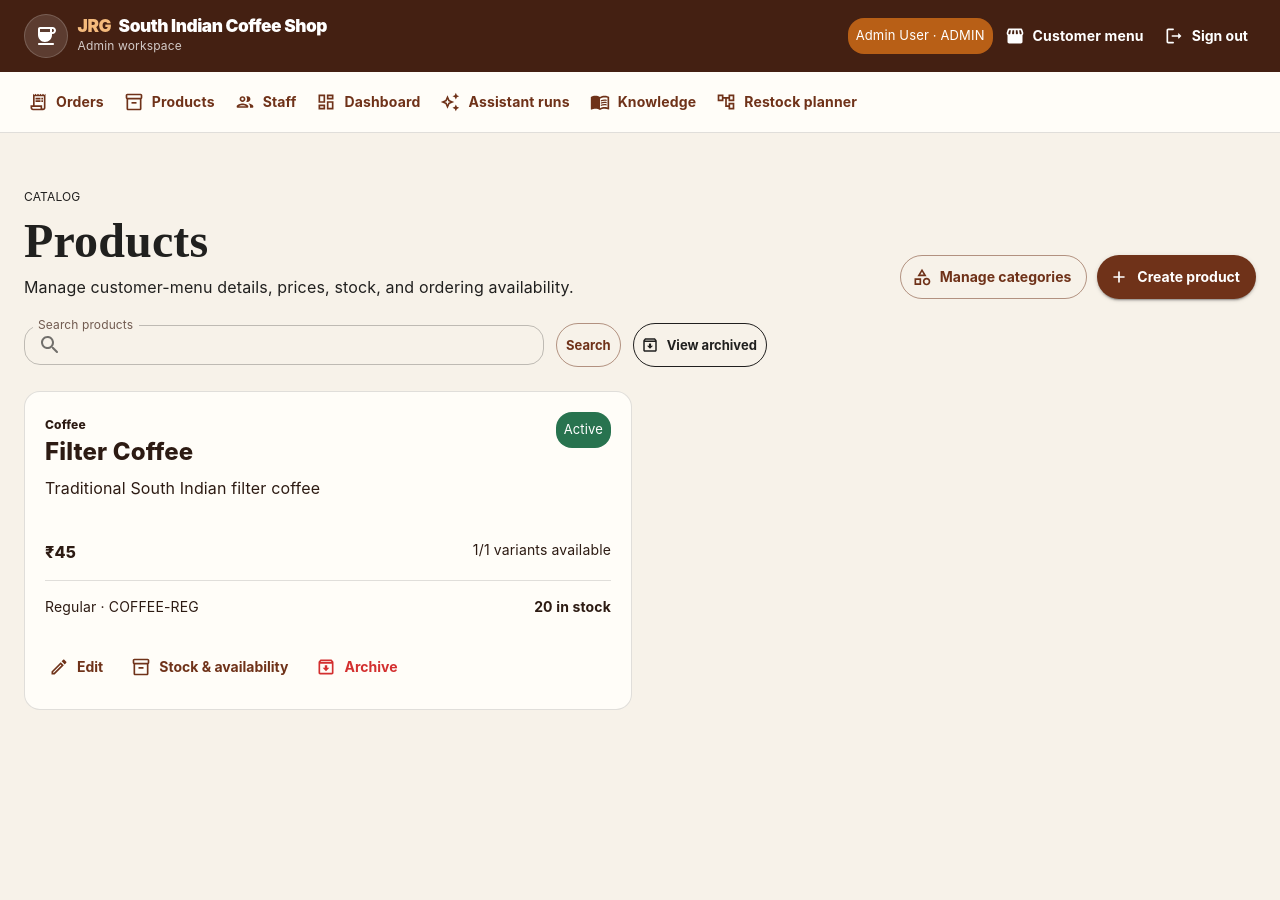
Test case: admin product management › returns to sign in when an admin mutation finds an expired session
The width and height of the screenshot is (1280, 900).
Click the button "Archive" at (359, 667), box [312,645,406,689]
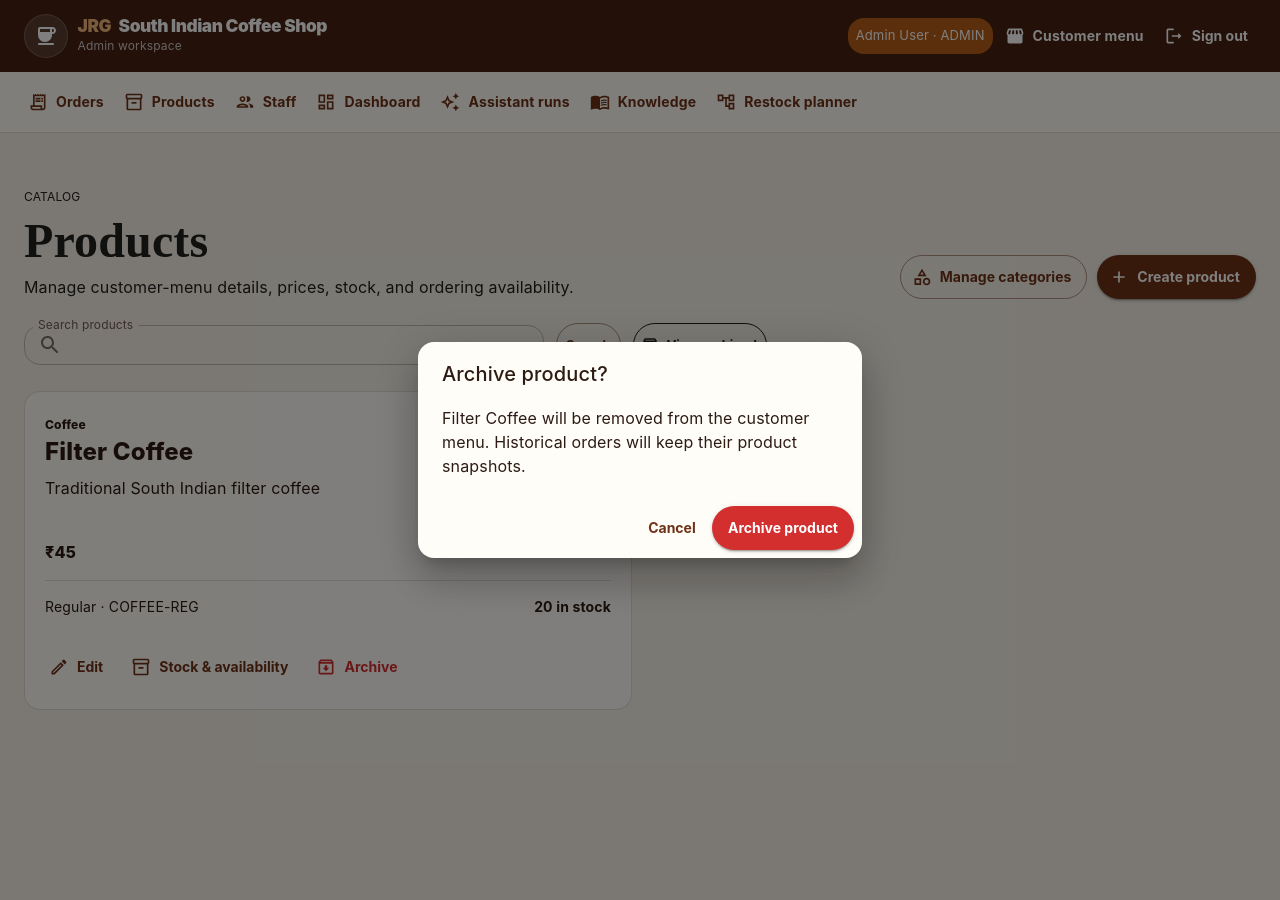
Click the button "Archive product" at (783, 528), box [712,506,854,550]
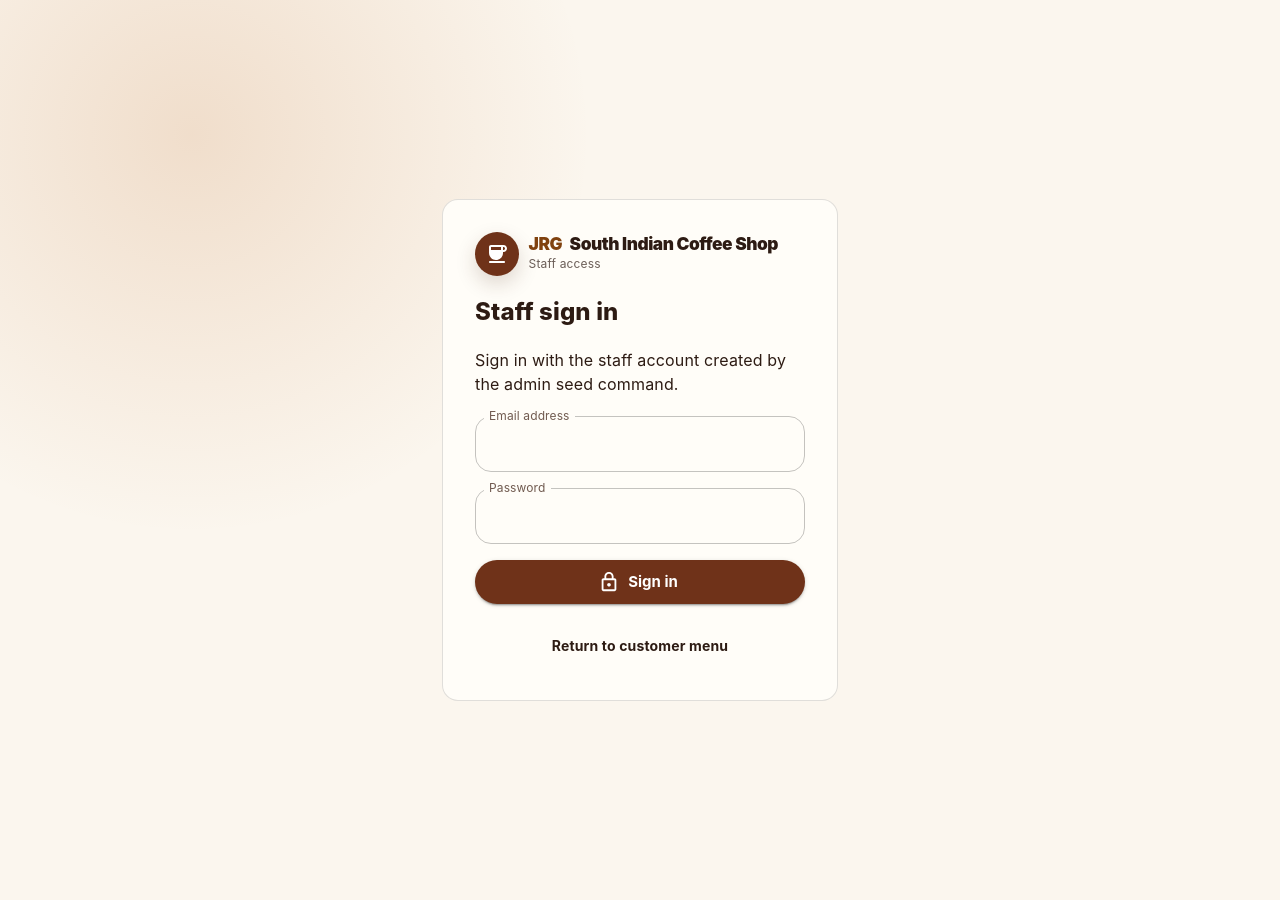
Check: the heading "Staff sign in" is shown, box [475,297,618,326]
